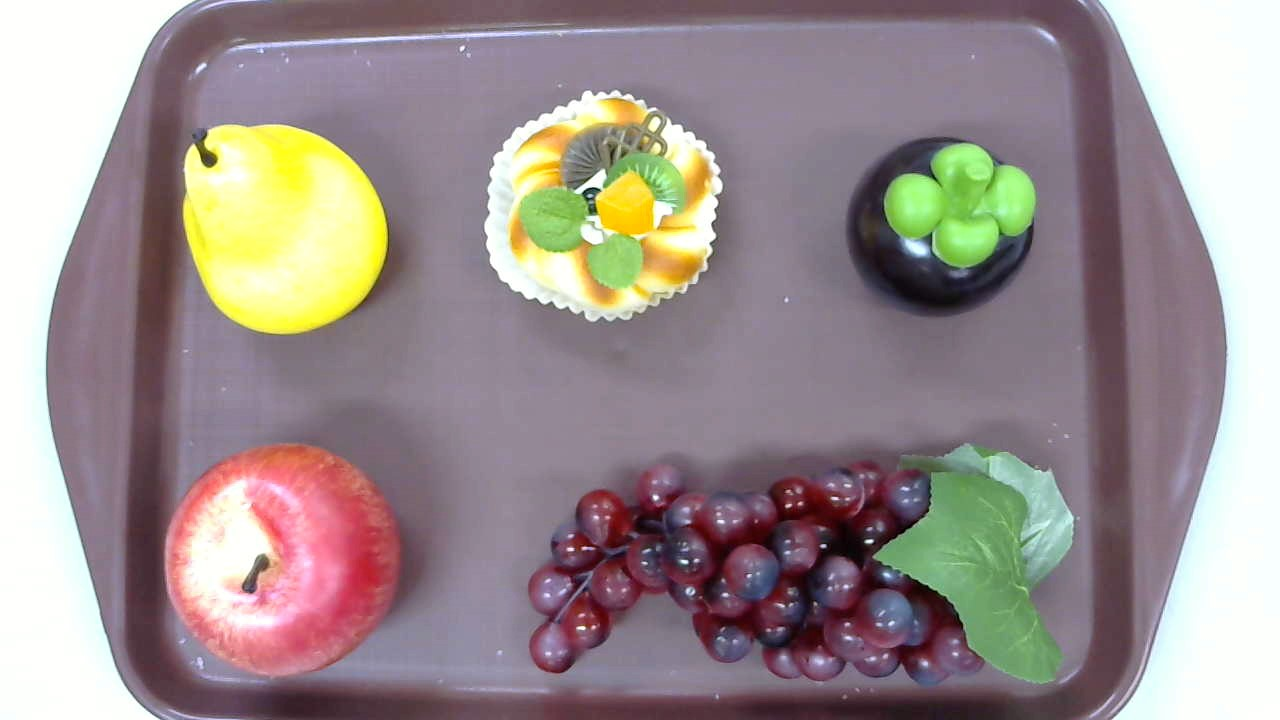fruit tower: (483, 91, 724, 323)
grape: (526, 440, 1075, 690)
mangosteen: (845, 136, 1037, 319)
red apple: (161, 441, 402, 680)
yellow pear: (182, 123, 387, 335)
